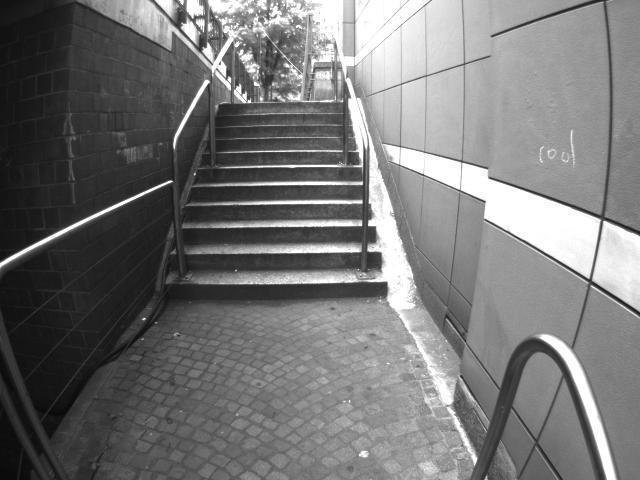Escaleras: (209, 97, 379, 319), (16, 452, 607, 479)
